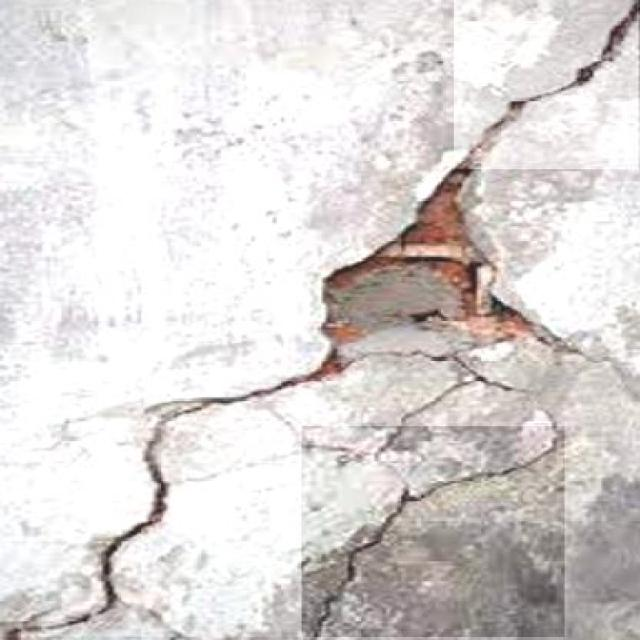Crack: (14, 326, 293, 632), (302, 432, 556, 640), (443, 1, 640, 159), (380, 363, 528, 420)
